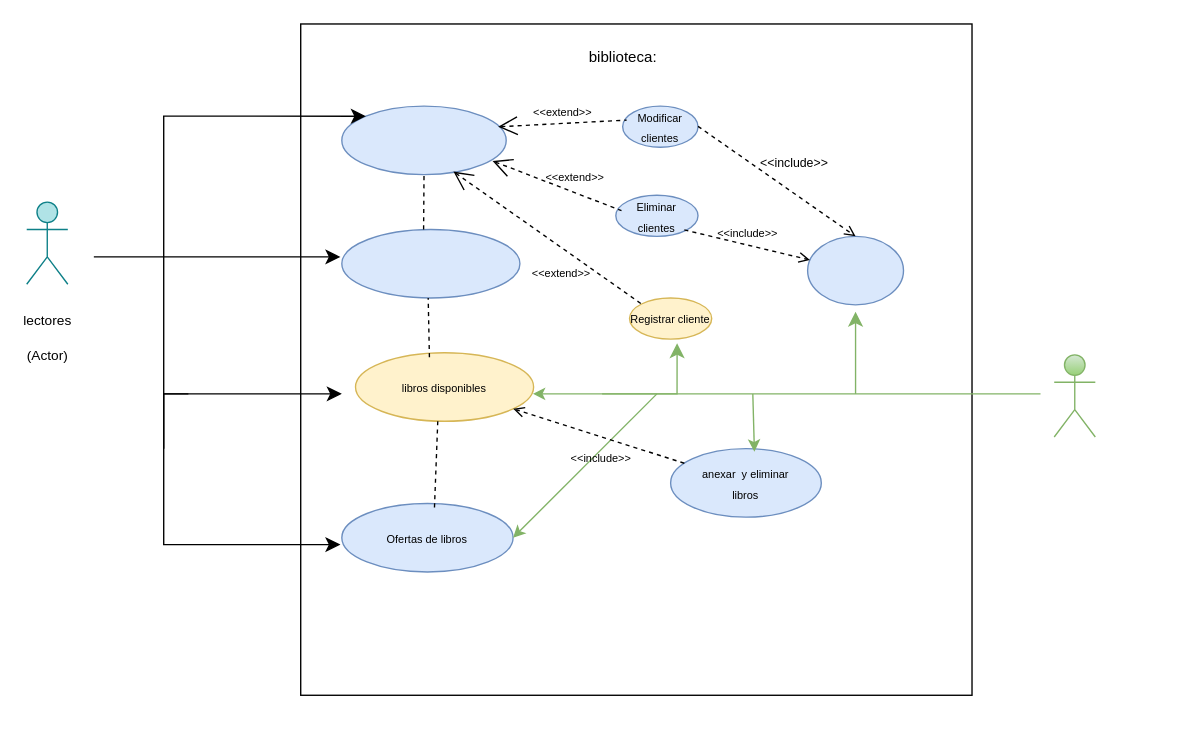
The diagram is 1197 pixels wide and 730 high, and some of its shapes have lost their labels. The shapes that lost their labels are listed below. From the top down, each one's centre as x and y in pixels, then its label:
the point at 423,140: registro
the point at 430,263: buscar y pedir libro
the point at 855,270: clientes BD
the point at 1074,395: Bibliotecario Administrador (Actor)
